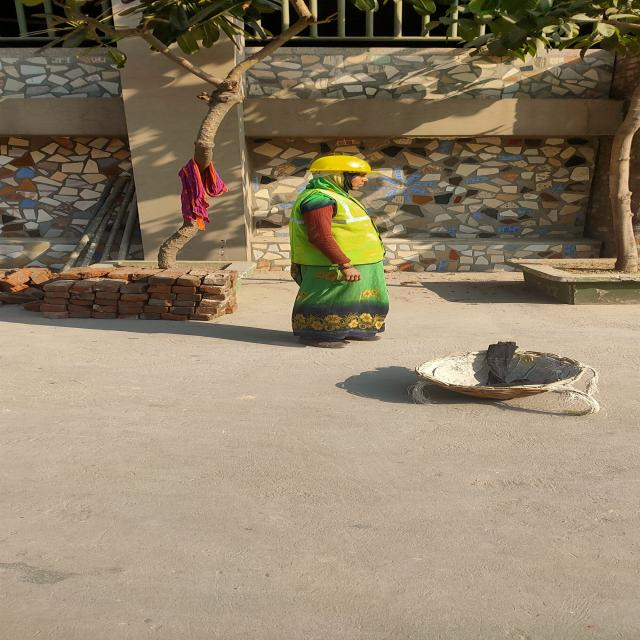safe: (293, 156, 390, 347)
